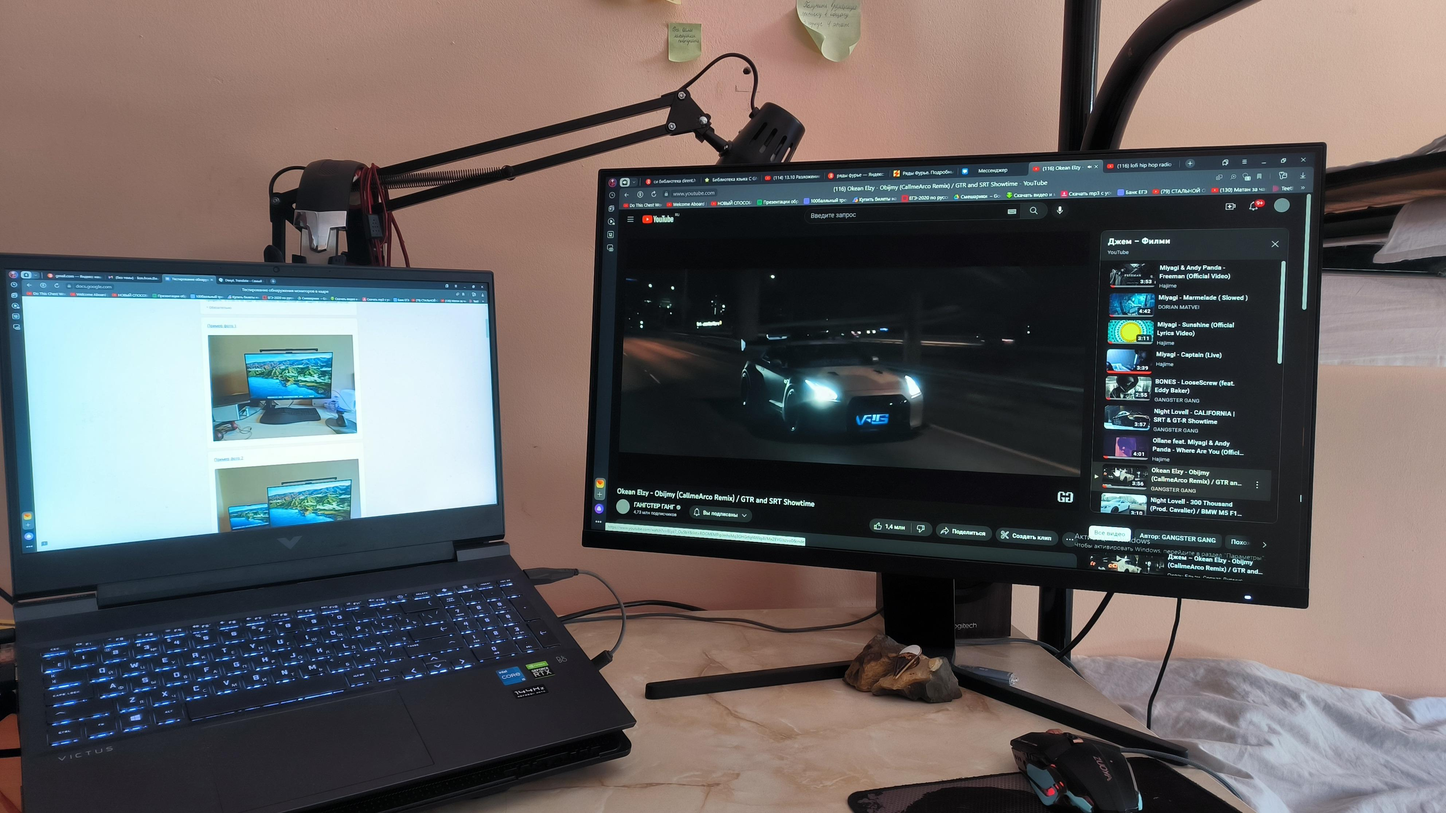monitor: (568, 135, 1336, 617), (0, 253, 510, 617)
